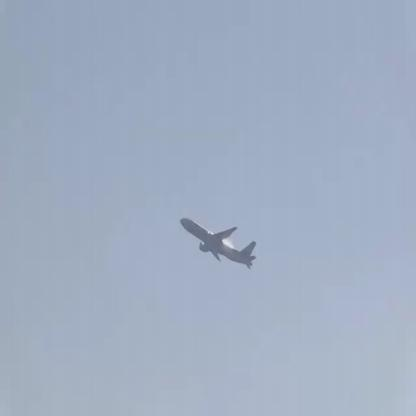CIV_Plane: (175, 214, 263, 278)
